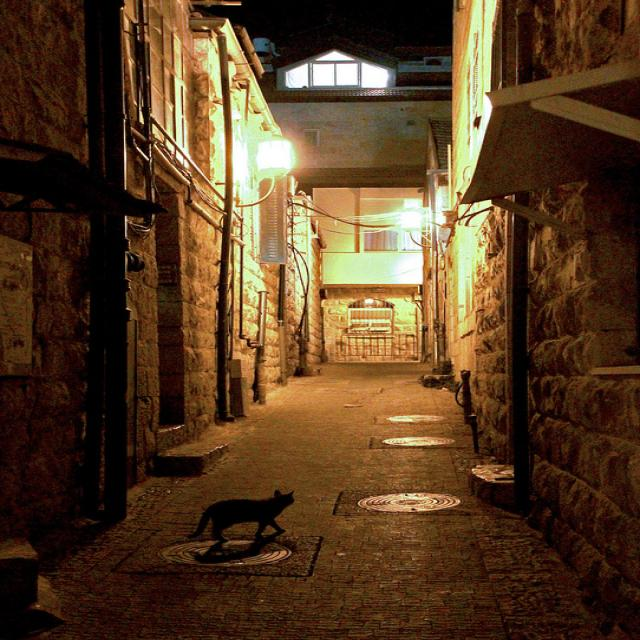Cat: (160, 474, 304, 593)
